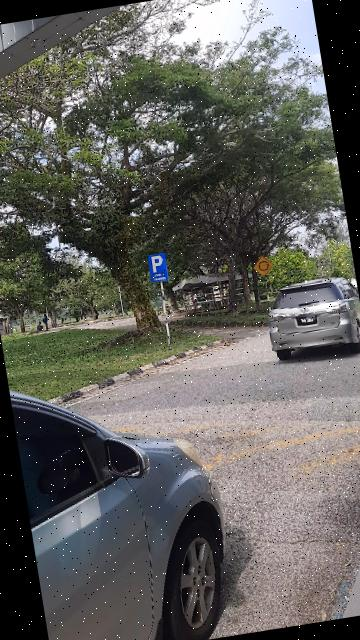License_Plate: (294, 314, 320, 330)
car: (7, 344, 270, 640), (262, 272, 360, 368)
